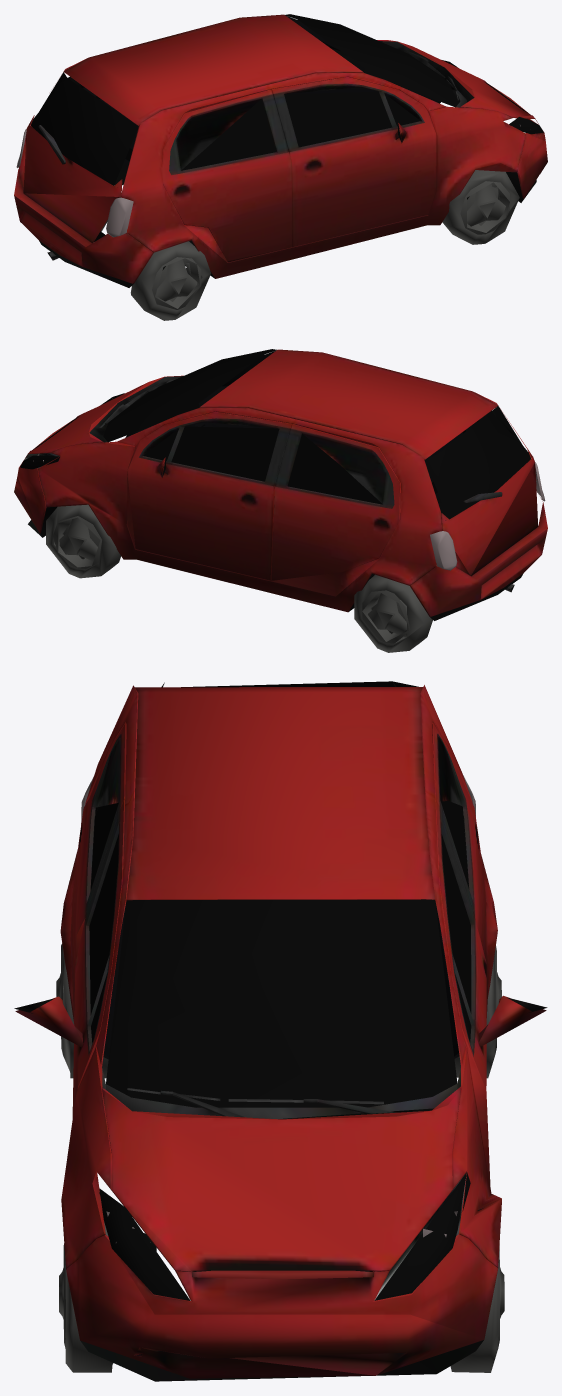
File: pc-compact-red.lod1.glb
3 renders of one model, top to bottom at view 1: azimuth 30°, elevation 25°; view 2: azimuth 150°, elevation 25°; view 3: azimuth 270°, elevation 25°, orthographic. The views are drawn at different scales.
Visible parts, largest first — view 1: Compact Body_Body_0, Wheel_C_Wheel_0; view 2: Compact Body_Body_0, Wheel_C_Wheel_0; view 3: Compact Body_Body_0, Wheel_C_Wheel_0.
Part boxes in pixels (x1,y1,x2,y2): Compact Body_Body_0: (14, 14, 547, 287); Wheel_C_Wheel_0: (16, 14, 543, 320); Compact Body_Body_0: (14, 349, 547, 620); Wheel_C_Wheel_0: (20, 349, 545, 652); Compact Body_Body_0: (14, 682, 547, 1381); Wheel_C_Wheel_0: (56, 681, 504, 1372).
Bounding box in the file's own units: 3.2 × 1.27 × 1.6.
2 materials, 1 textured.
